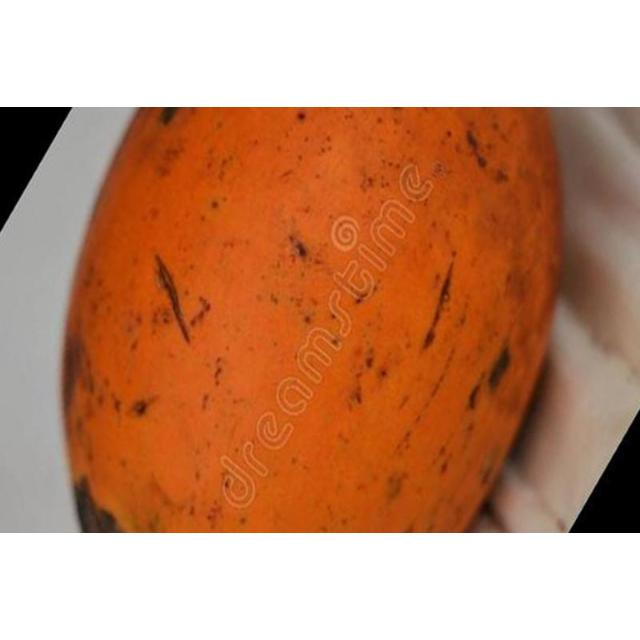good: (52, 107, 565, 533)
